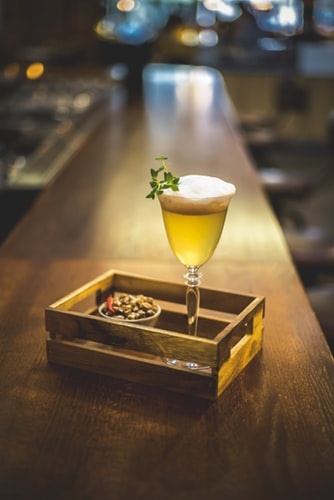whiskey: (147, 176, 238, 323)
